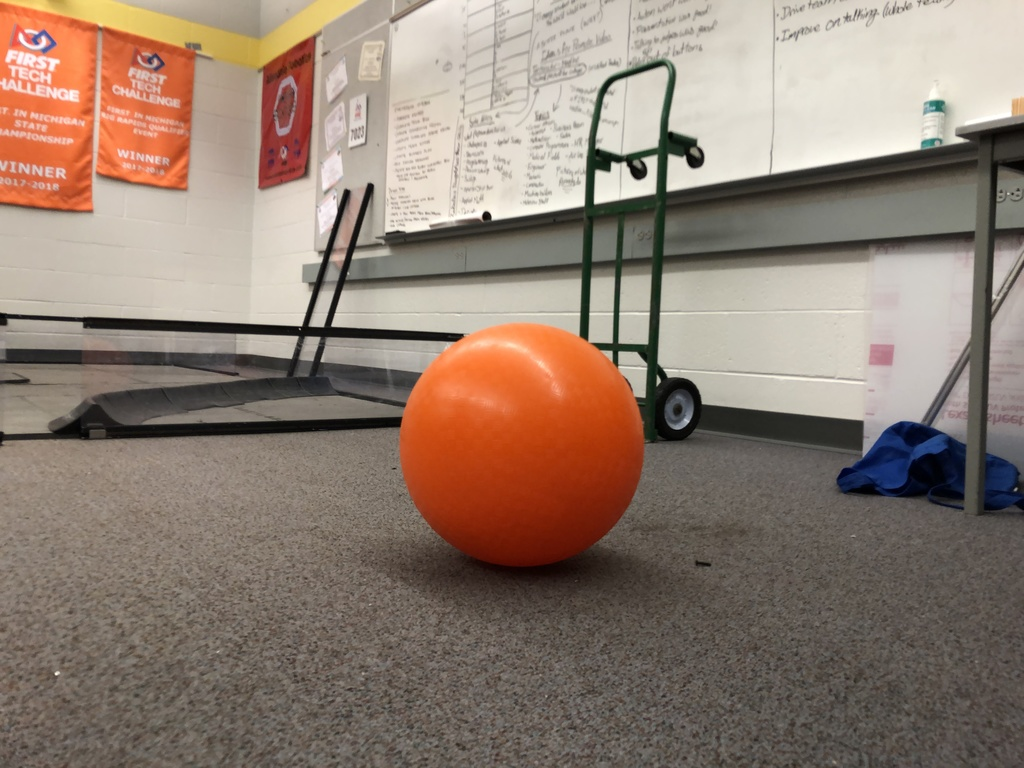cargo: (393, 314, 655, 584)
